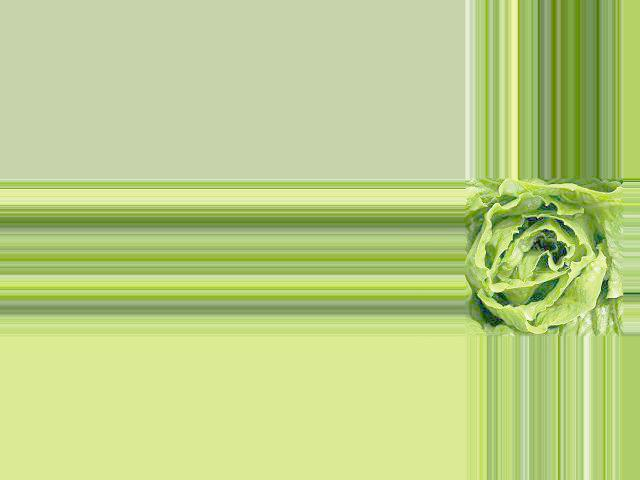lettuce: (474, 179, 617, 331)
